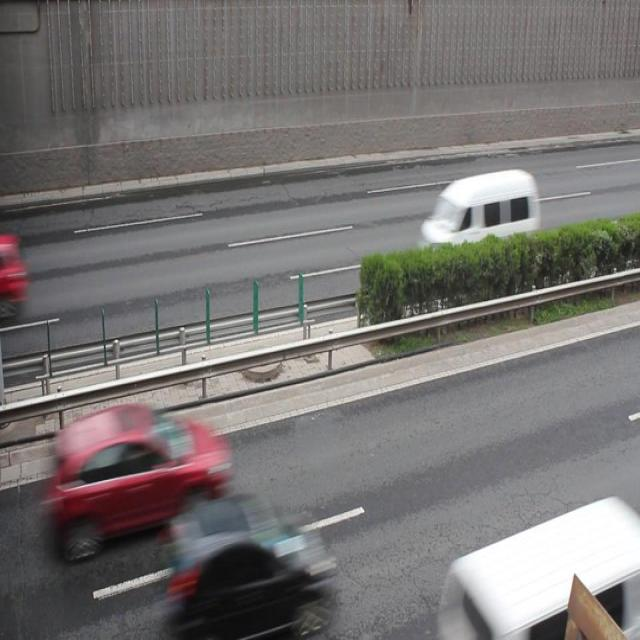car: (65, 400, 230, 552), (156, 496, 330, 640)
truck: (437, 499, 620, 640), (416, 168, 539, 270)
